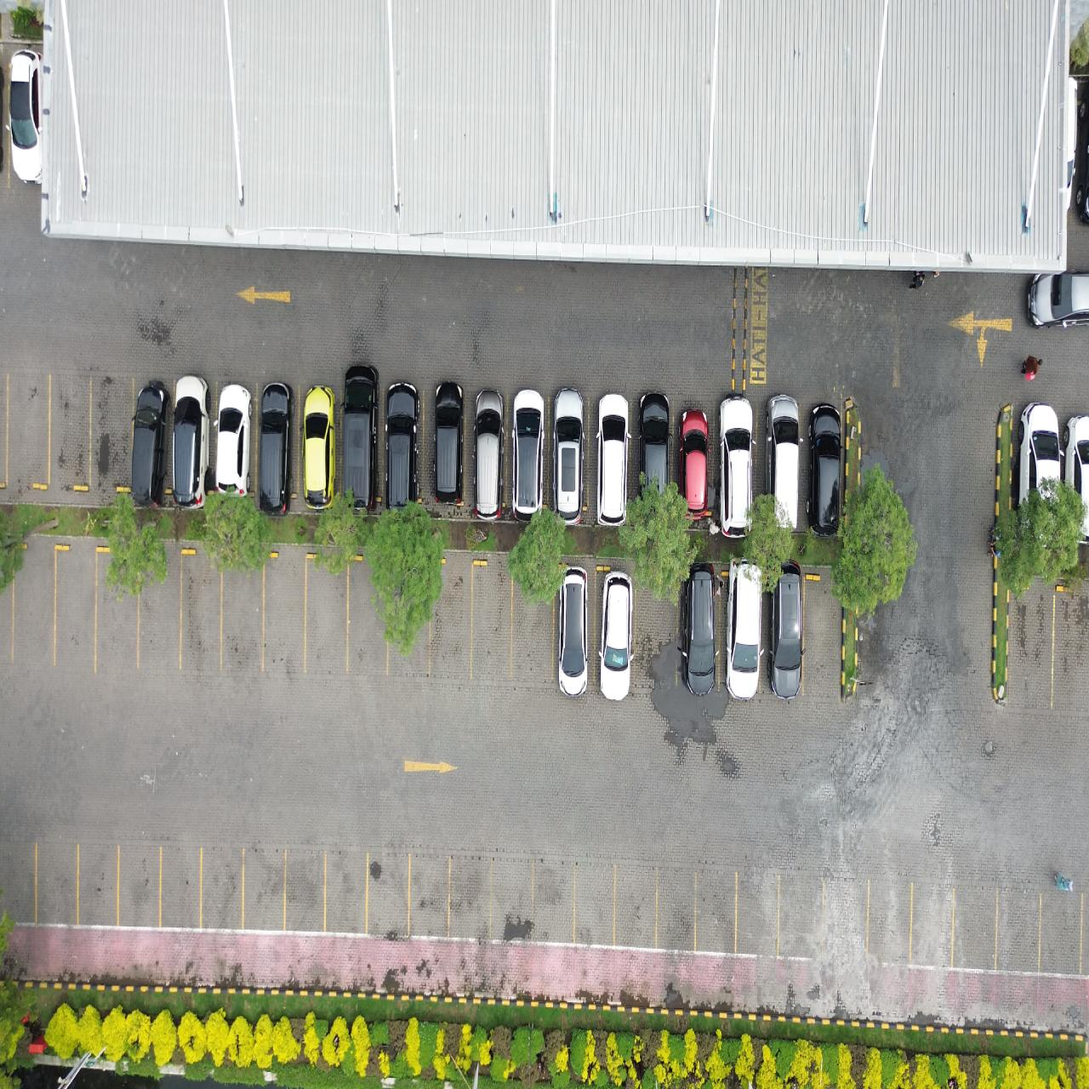cars: (175, 379, 213, 510), (217, 379, 255, 510), (303, 379, 341, 510), (386, 381, 424, 512), (427, 382, 465, 513), (509, 385, 547, 516), (550, 385, 588, 516), (590, 386, 628, 517), (634, 388, 672, 519), (674, 389, 712, 520), (555, 569, 593, 700), (596, 570, 634, 701), (684, 570, 722, 701), (725, 571, 763, 702), (719, 393, 757, 524), (803, 403, 841, 534), (765, 570, 803, 701), (135, 377, 172, 508), (258, 379, 295, 510), (344, 380, 381, 511), (469, 384, 506, 515), (760, 394, 797, 525)
empty: (306, 549, 348, 703), (389, 556, 430, 713), (222, 548, 264, 700), (97, 548, 138, 702), (140, 548, 181, 701), (432, 556, 472, 712), (56, 547, 96, 702), (14, 546, 54, 701), (265, 549, 305, 703), (636, 568, 678, 713), (92, 364, 134, 508), (8, 364, 50, 504), (349, 551, 387, 705), (514, 563, 553, 713), (474, 561, 512, 713), (183, 548, 221, 700), (52, 362, 91, 505), (805, 569, 841, 714)
